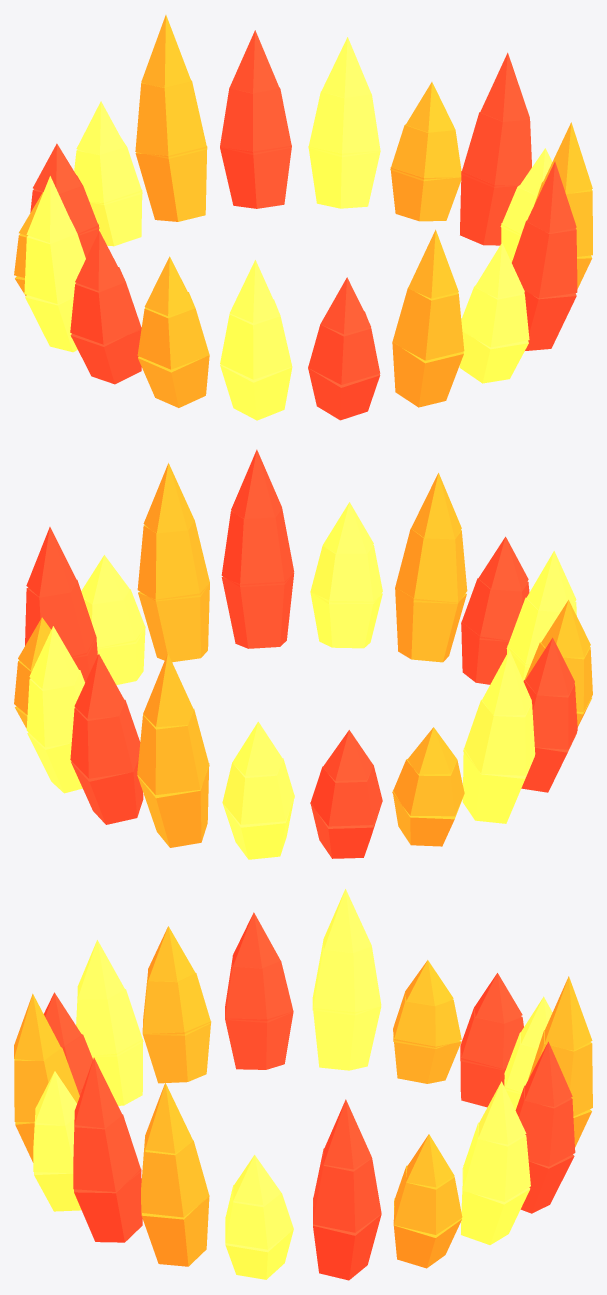
File: caldris_hem.glb
3 renders of one model, top to bottom at view 1: azimuth 30°, elevation 25°; view 2: azimuth 150°, elevation 25°; view 3: azimuth 270°, elevation 25°, orthographic.
Parts seen in each view (by area): view 1: caldris_hem; view 2: caldris_hem; view 3: caldris_hem.
Part boxes in pixels (left/top/right/bottom): caldris_hem: left=14, top=15, right=592, bottom=420; caldris_hem: left=14, top=449, right=592, bottom=859; caldris_hem: left=14, top=889, right=592, bottom=1280.
Size of the model in its own units: 1.05 by 0.396 by 1.07.
